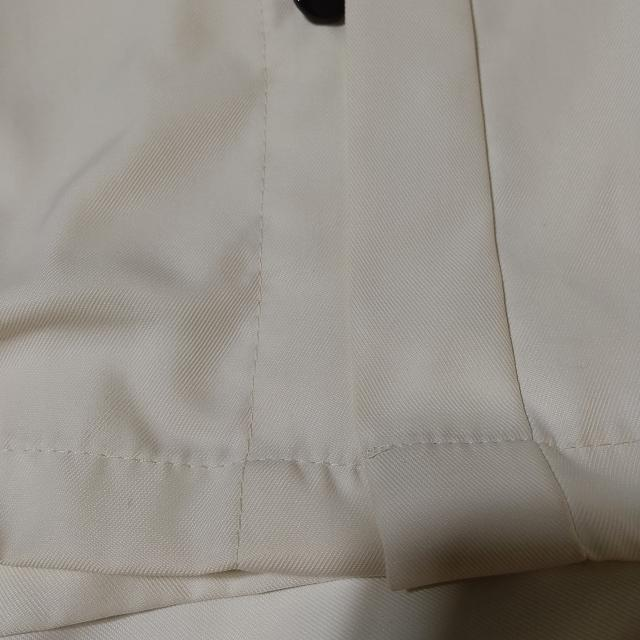education_male_uniform: (264, 0, 632, 580)
